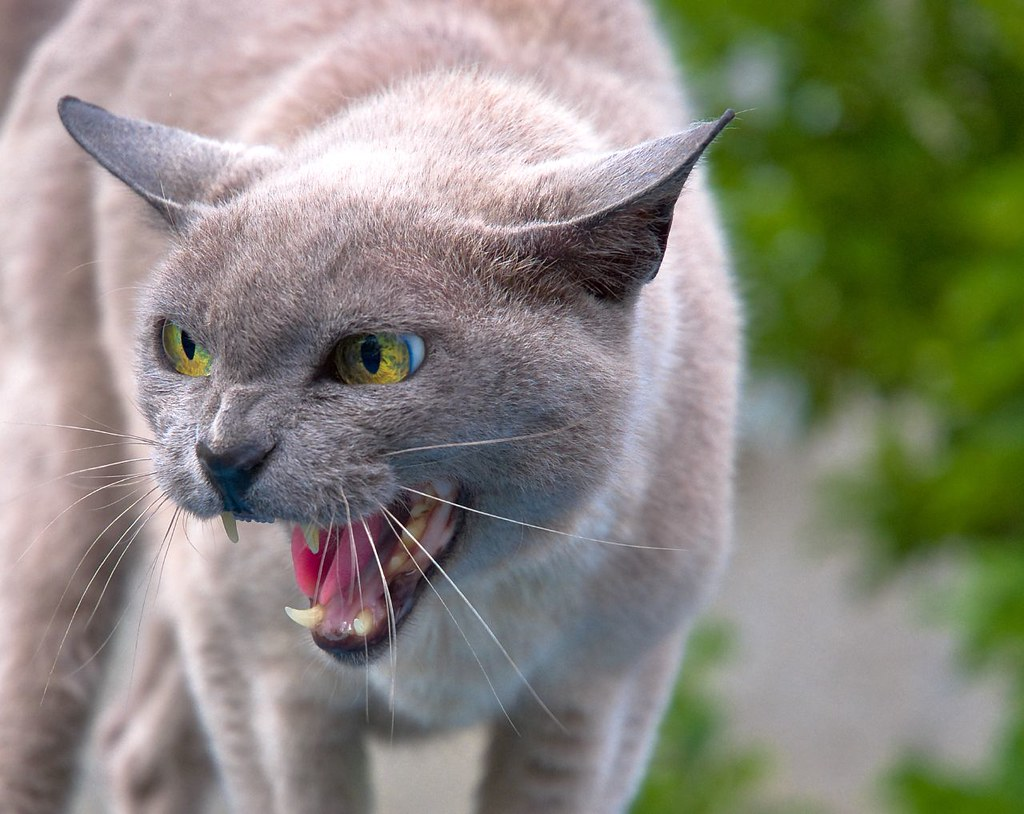cat-face: (25, 88, 750, 751)
